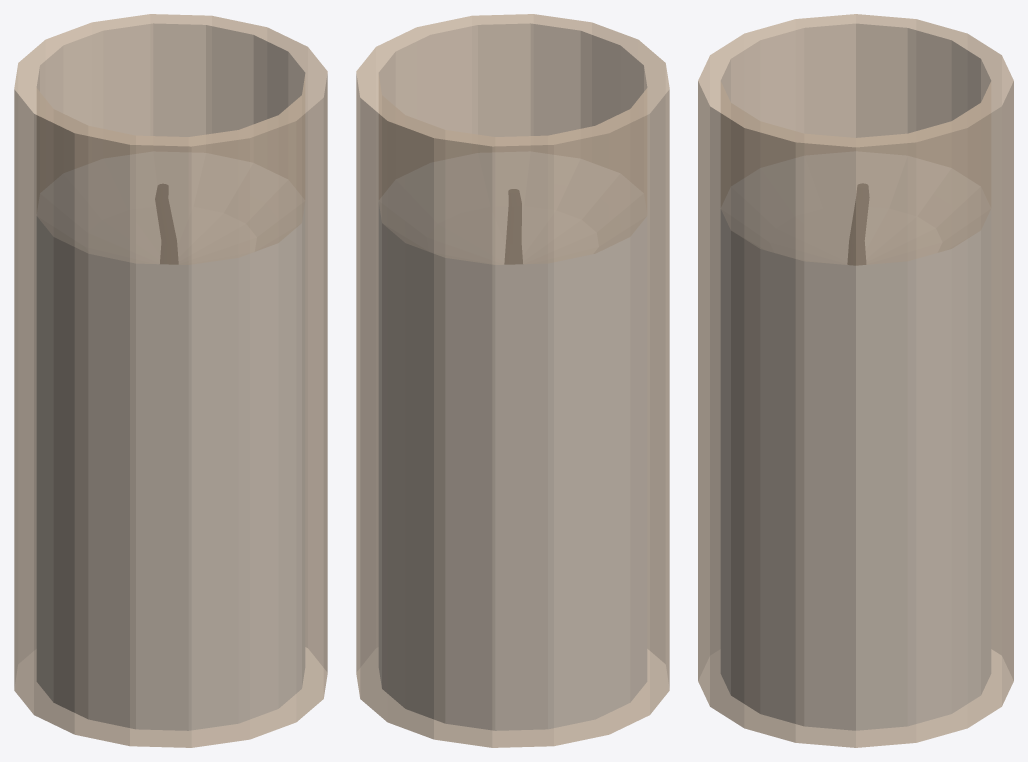
The model's file is Candle1.2.fbx.
3 views of the same model, side by side, from view 1: azimuth 30°, elevation 25°; view 2: azimuth 150°, elevation 25°; view 3: azimuth 270°, elevation 25° (orthographic).
Parts seen in each view (by area): view 1: Candle1.2; view 2: Candle1.2; view 3: Candle1.2.
Part boxes in pixels (x1=…): Candle1.2: x1=14, y1=14, x2=327, y2=747; Candle1.2: x1=356, y1=14, x2=669, y2=747; Candle1.2: x1=698, y1=14, x2=1013, y2=747.
Size of the model in its own units: 22.45 by 47.1 by 22.45.
